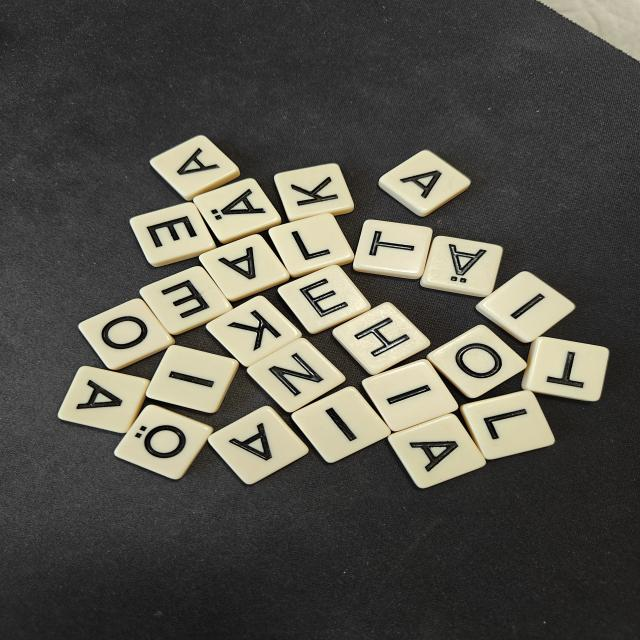a: (208, 406, 308, 484), (388, 414, 486, 488), (58, 366, 150, 433), (199, 234, 290, 301), (379, 150, 470, 216), (150, 135, 240, 201)
a_dot: (193, 178, 281, 243), (420, 236, 502, 298)
e: (278, 265, 371, 334), (140, 266, 232, 335), (130, 203, 215, 266)
h: (332, 302, 430, 375)
i: (292, 386, 391, 463), (476, 271, 575, 342), (362, 359, 458, 431), (146, 345, 239, 413)
k: (205, 296, 302, 366), (274, 163, 354, 221)
l: (460, 390, 554, 459), (269, 214, 354, 277)
n: (248, 338, 345, 412)
o: (427, 325, 526, 398), (79, 299, 175, 370)
o_dot: (114, 405, 213, 479)
t: (522, 337, 608, 401), (352, 219, 432, 279)
